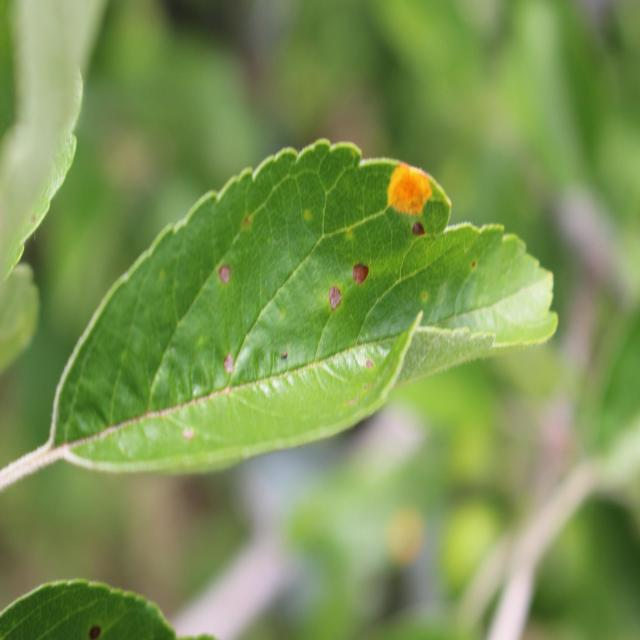Black Rot: (204, 252, 242, 296), (320, 284, 351, 332), (219, 345, 247, 396), (349, 254, 384, 289), (399, 215, 438, 244)
Rust: (369, 142, 435, 222)
